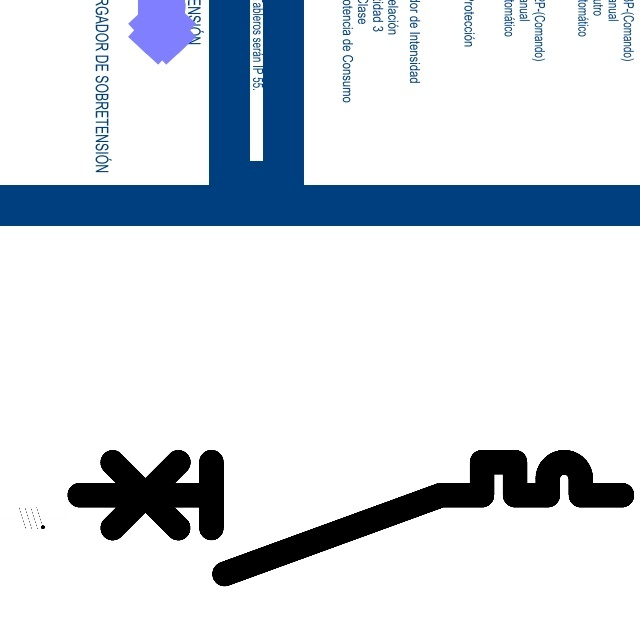interruptor_termomagnetico: (65, 448, 636, 587)
